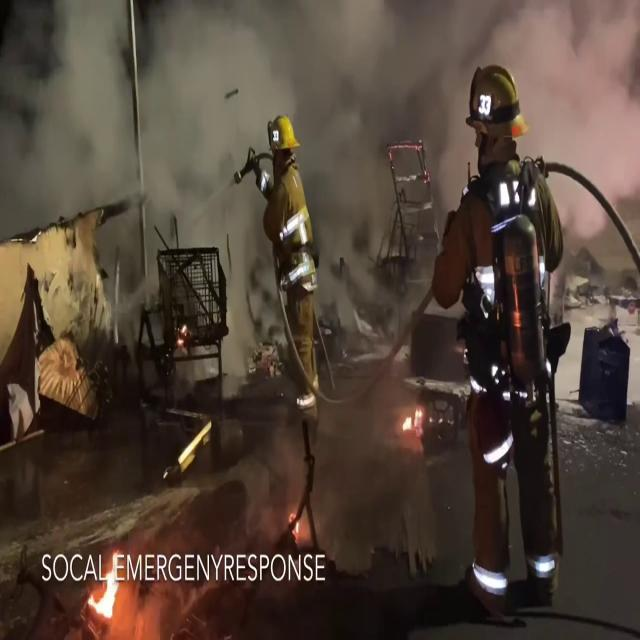Fire: (92, 556, 121, 630), (399, 397, 427, 442)
Smoke: (2, 0, 637, 277)
